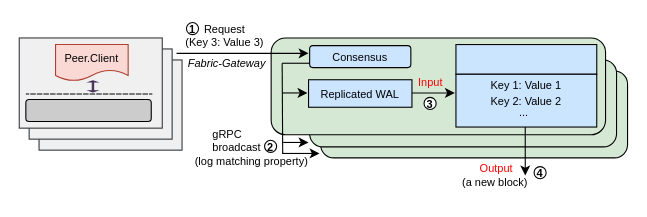
Some shapes in this 647 by 217 pixel diagram are drawn without their labels. The shapes that lost their labels are listed below. From the top down, each one's box as (x1, y1, x2, y2) in pixels, then its label:
(455, 43, 597, 74): Replicated State Machine
(25, 98, 151, 122): Nodejs SDK
